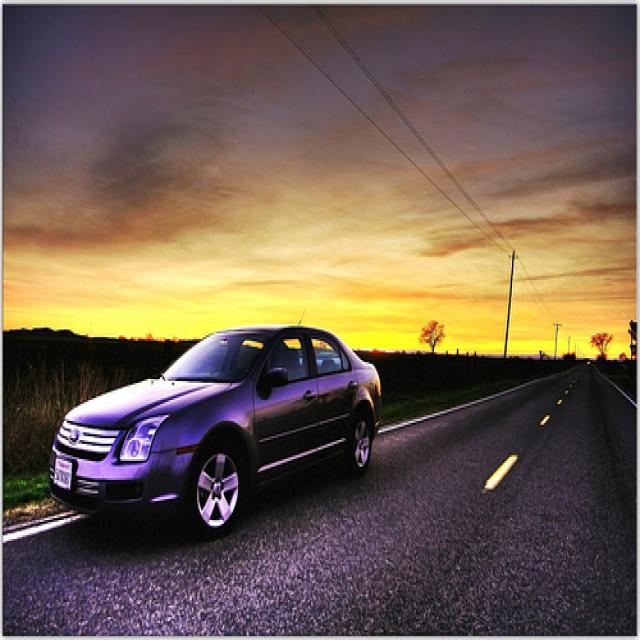Car: (36, 314, 389, 550)
